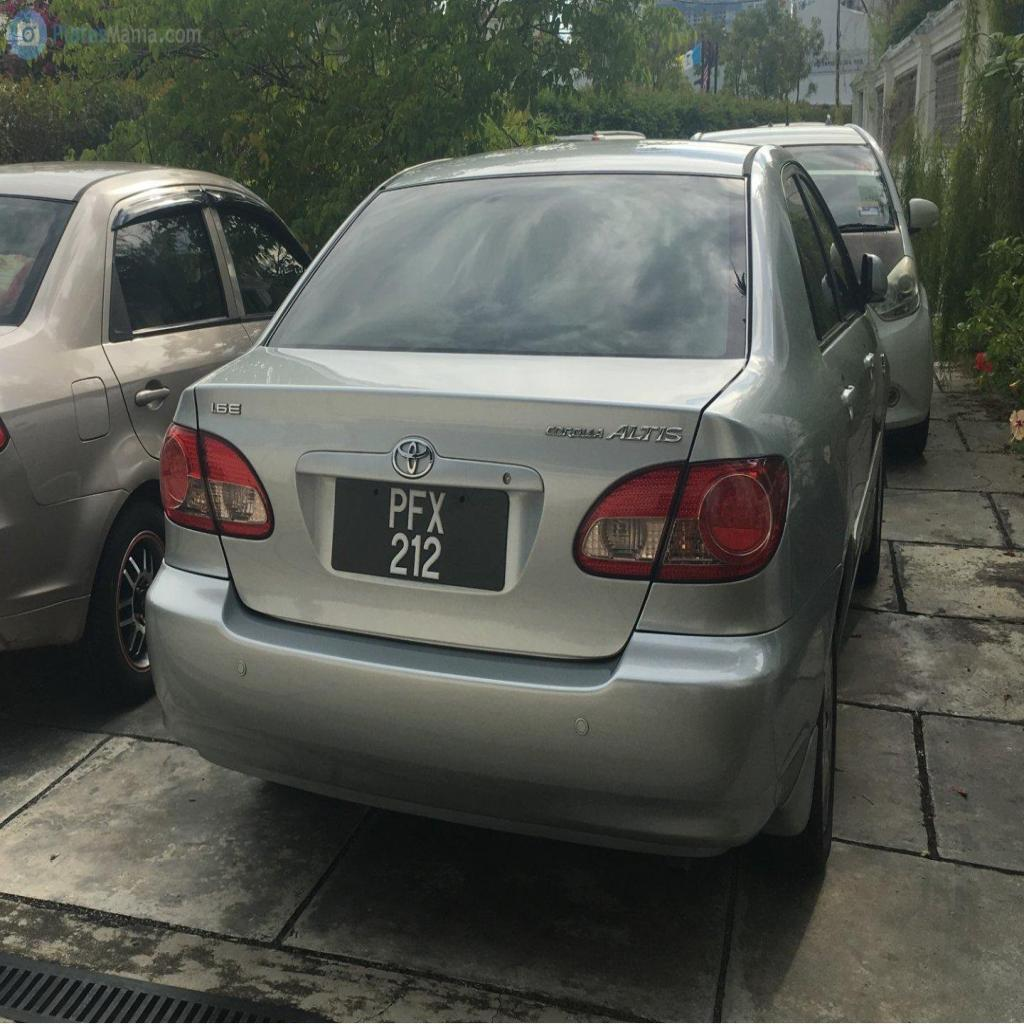car: (146, 140, 885, 864)
car plate: (331, 478, 507, 590)
